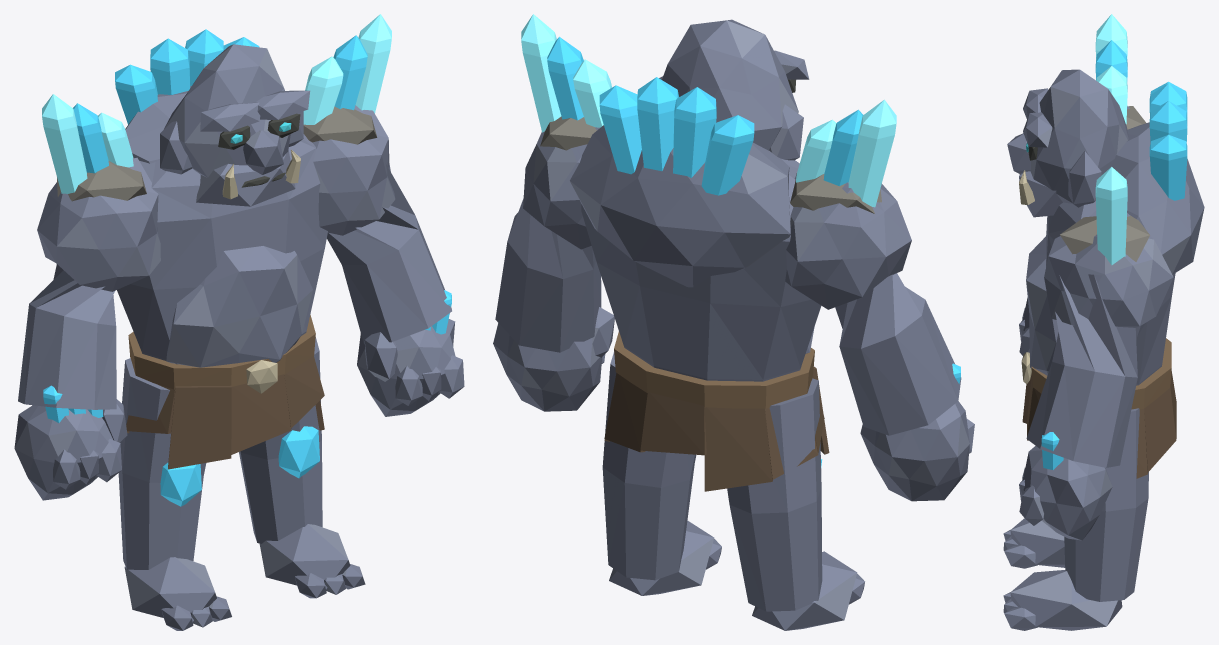
The model's file is Crystal_Cave_Giant.glb.
3 views of the same model, side by side, from view 1: azimuth 30°, elevation 25°; view 2: azimuth 150°, elevation 25°; view 3: azimuth 270°, elevation 25° (orthographic). The views are drawn at different scales.
Parts seen in each view (by area): view 1: Torso, Arm_R, Arm_L, Leg_R, Leg_L, Weapon; view 2: Torso, Arm_R, Arm_L, Leg_R, Leg_L, Weapon; view 3: Arm_L, Torso, Leg_L, Arm_R, Leg_R, Weapon.
Part boxes in pixels (bbox=[...]): Torso: bbox=[115, 29, 347, 389]; Arm_R: bbox=[14, 94, 167, 500]; Arm_L: bbox=[303, 14, 464, 416]; Leg_R: bbox=[45, 358, 290, 630]; Leg_L: bbox=[233, 347, 414, 598]; Weapon: bbox=[57, 161, 146, 201]; Torso: bbox=[570, 19, 818, 408]; Arm_R: bbox=[780, 99, 974, 512]; Arm_L: bbox=[493, 14, 614, 411]; Leg_R: bbox=[650, 368, 864, 630]; Leg_L: bbox=[602, 361, 721, 595]; Weapon: bbox=[790, 173, 881, 213]; Arm_L: bbox=[1019, 167, 1173, 540]; Torso: bbox=[1007, 69, 1204, 411]; Leg_L: bbox=[1003, 366, 1176, 630]; Arm_R: bbox=[1019, 14, 1129, 355]; Leg_R: bbox=[1003, 371, 1176, 568]; Weapon: bbox=[1126, 106, 1146, 129].
Bounding box in the file's own units: 2.86 × 3.5 × 1.2.
